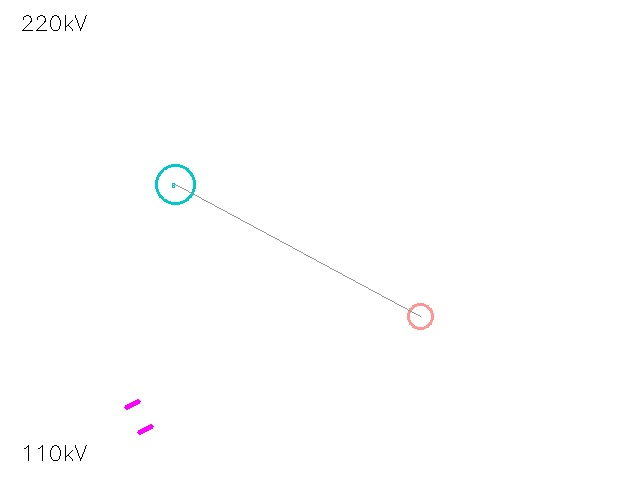capacitor: (116, 394, 162, 440)
fuse: (395, 291, 445, 341)
generator: (156, 165, 194, 203)
